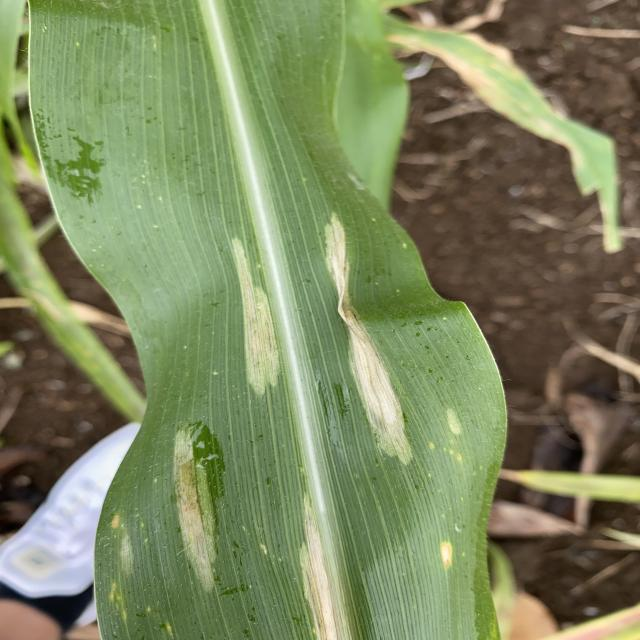Corn_Leaf_Blight: (98, 0, 504, 640)
